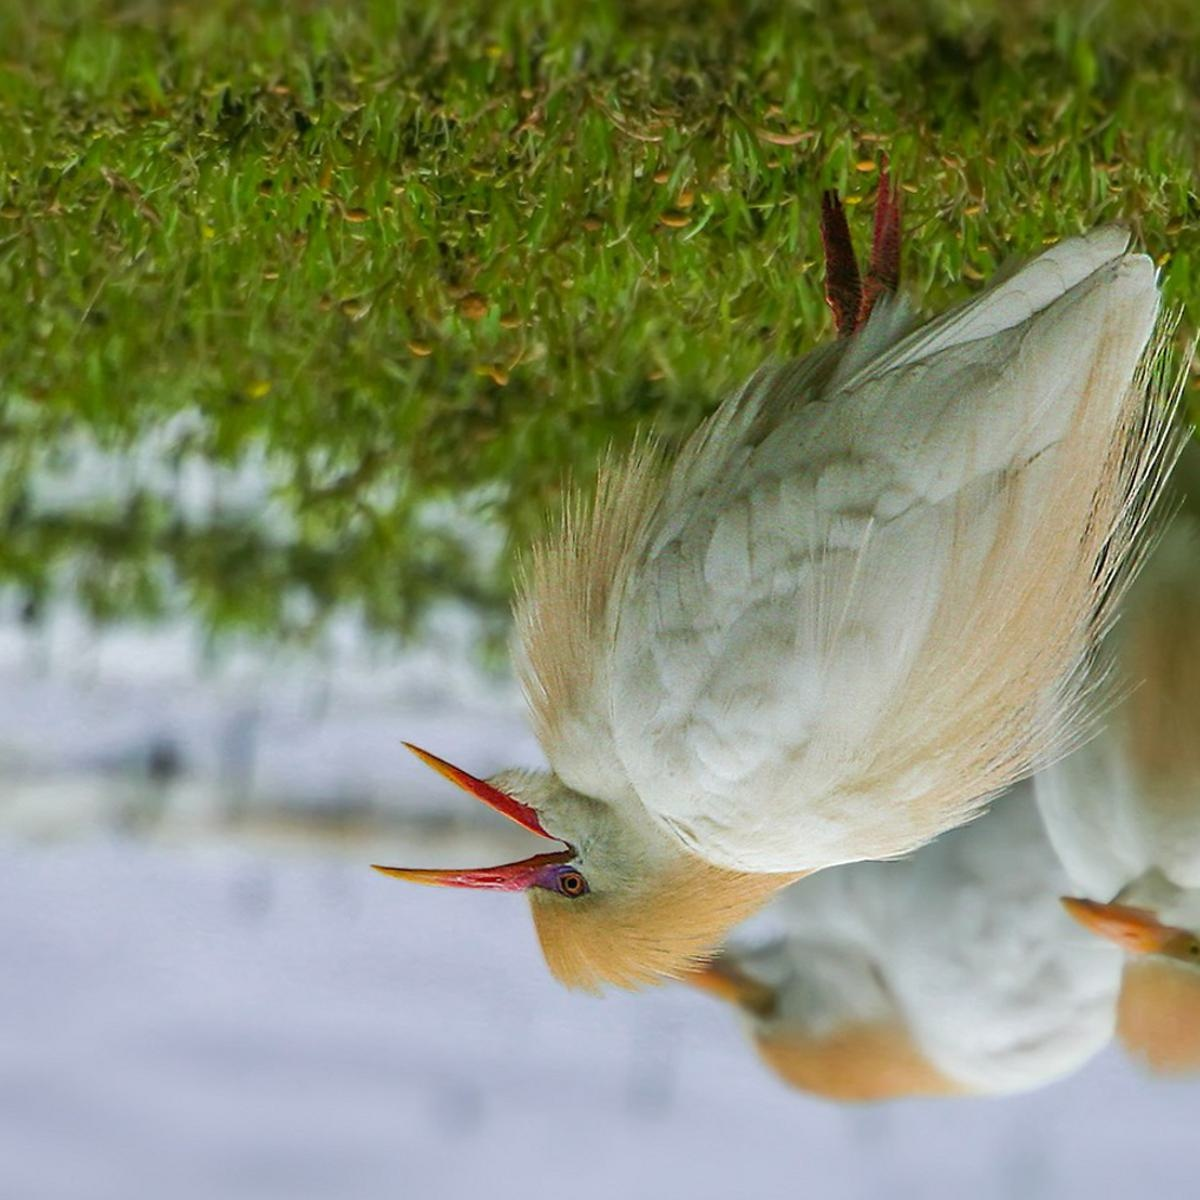egret: (359, 216, 1163, 957)
